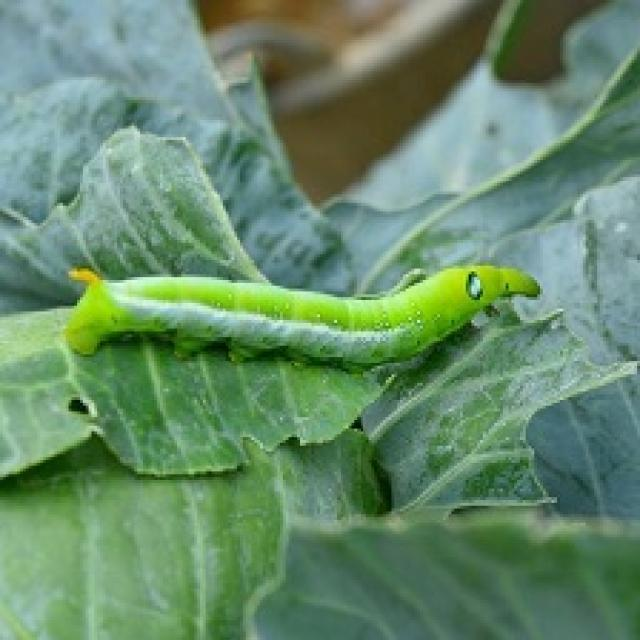worm: (61, 261, 541, 367)
